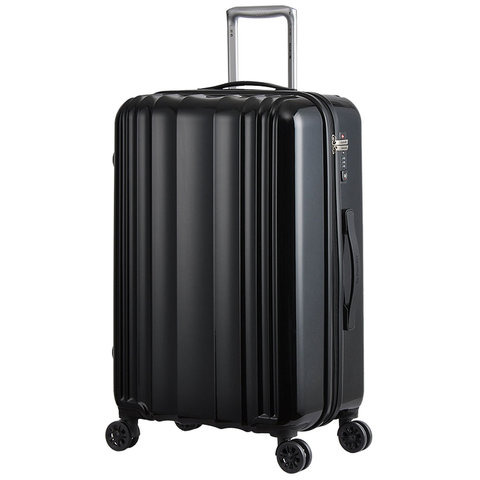luggage: (105, 2, 374, 478)
